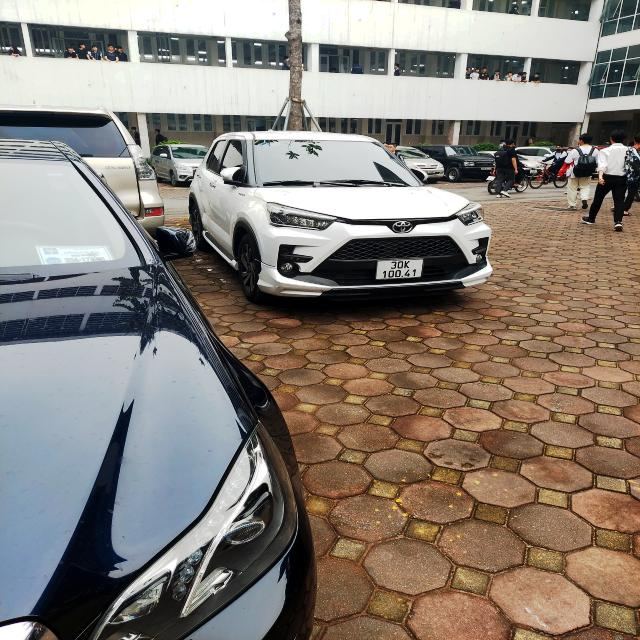license_plate: (378, 261, 426, 280), (487, 177, 497, 181), (483, 168, 493, 171)
